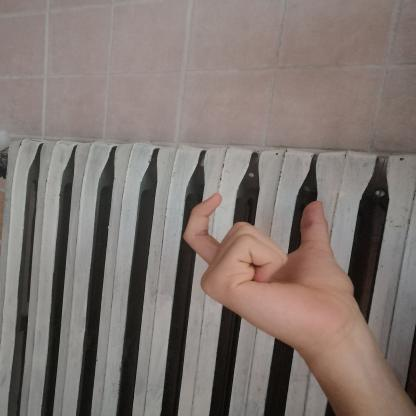NOON: (166, 182, 369, 358)
